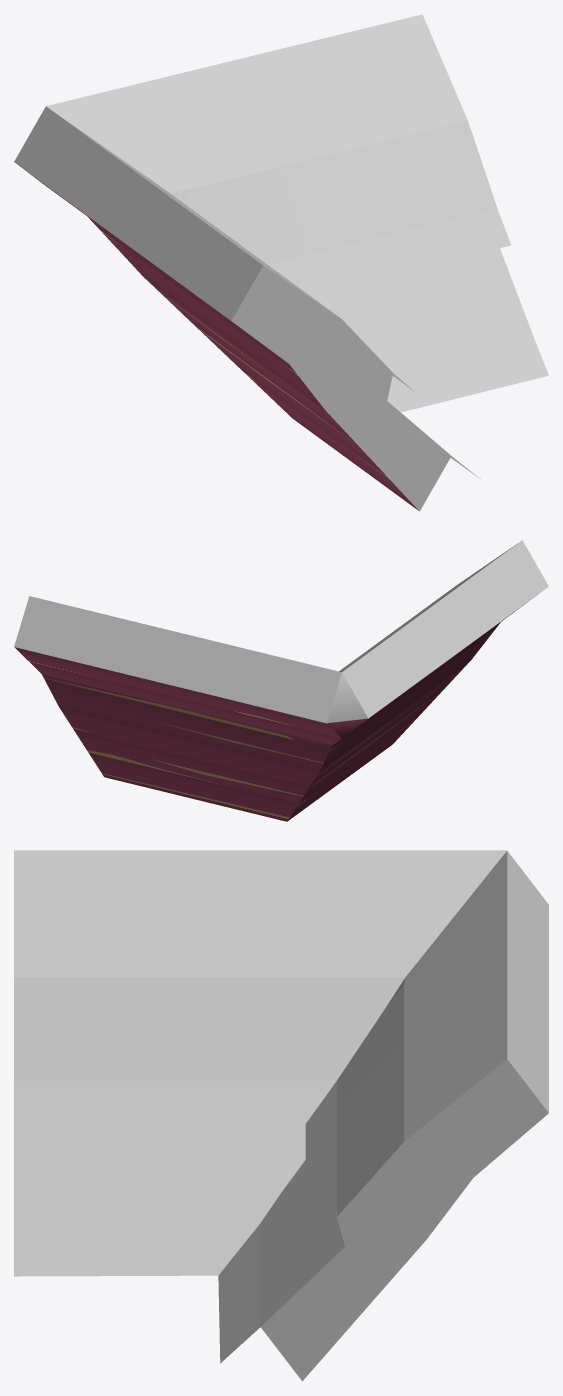
Rendered from SM_Bld_Roof_Thatch_S_Corner_In_01.fbx.
3 renders of one model, top to bottom at view 1: azimuth 30°, elevation 25°; view 2: azimuth 150°, elevation 25°; view 3: azimuth 270°, elevation 25°, orthographic. The views are drawn at different scales.
Parts seen in each view (by area): view 1: SM_Bld_Roof_Thatch_S_Corner_In_01; view 2: SM_Bld_Roof_Thatch_S_Corner_In_01; view 3: SM_Bld_Roof_Thatch_S_Corner_In_01.
Boxes of the visible parts, x1,y1,x2,y2 form: SM_Bld_Roof_Thatch_S_Corner_In_01: (14,14,548,511); SM_Bld_Roof_Thatch_S_Corner_In_01: (14,540,548,821); SM_Bld_Roof_Thatch_S_Corner_In_01: (14,850,548,1381).
Bounding box in the file's own units: 271 × 180 × 271.
